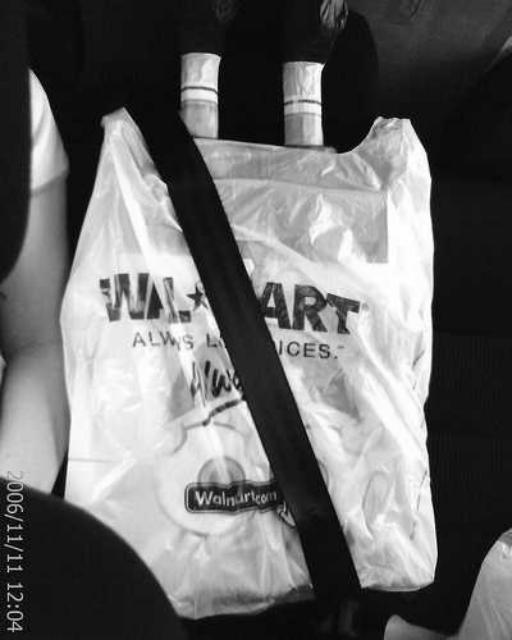Seatbelt: (113, 98, 373, 604)
